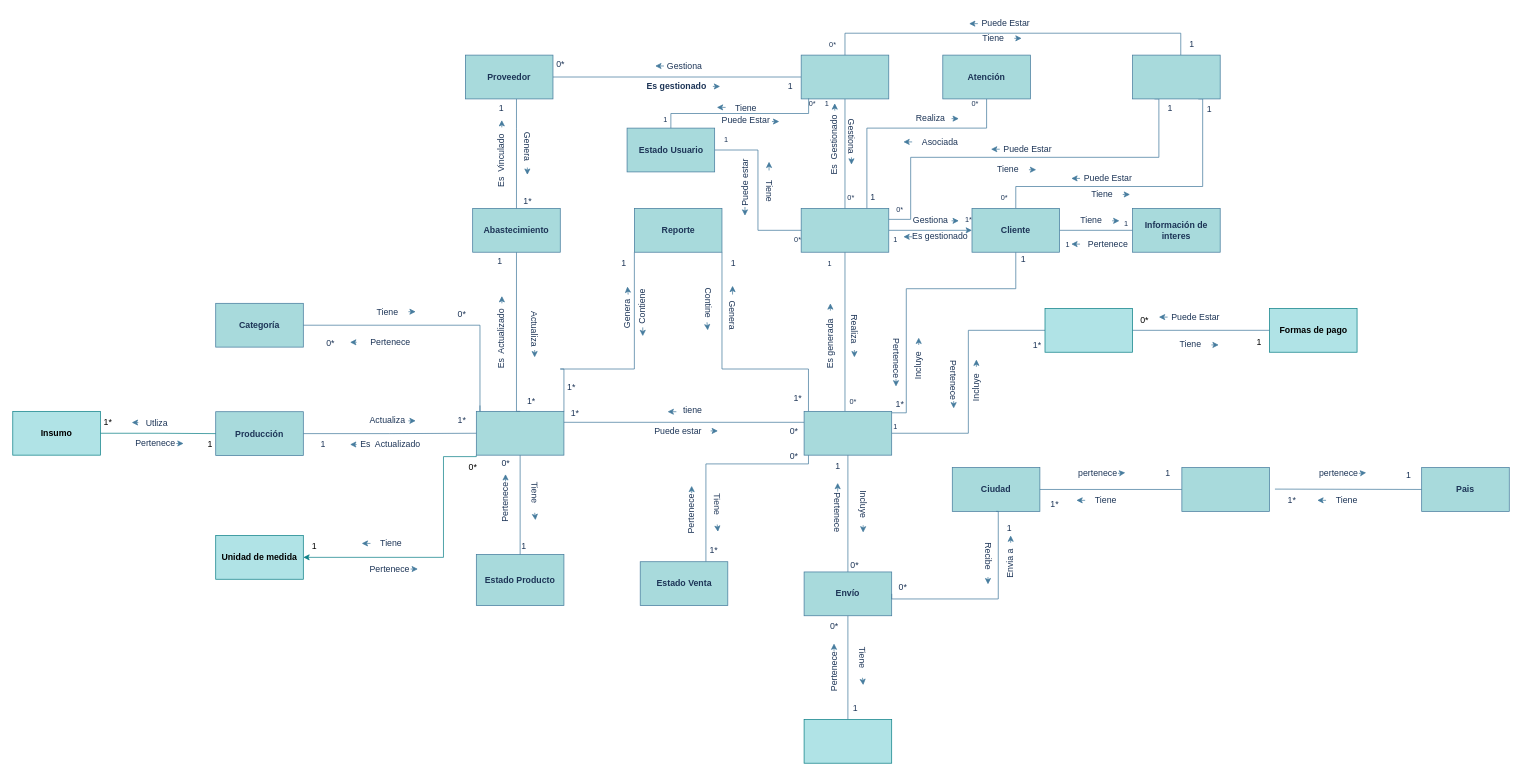
This 1522x776 diagram has some shape labels left out. The centre of each missing label's shape, as x and y in pixels:
"Administrador" belongs at pixel 844 76.
"Departamento" belongs at pixel 1225 489.
"Estado envío" belongs at pixel 847 741.
"Pago" belongs at pixel 1088 330.
"Producto" belongs at pixel 520 433.
"Tipo Identificación" belongs at pixel 1176 76.
"Trabajador" belongs at pixel 844 230.
"Venta" belongs at pixel 847 433.
